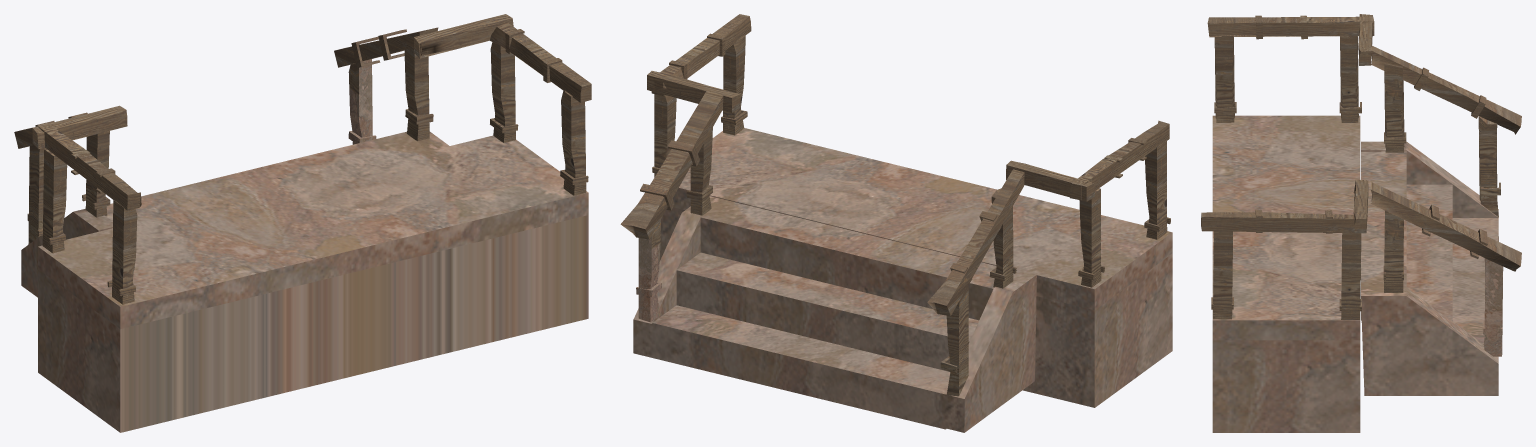
Rendered from OU_AR_House_Veranda_04_D.fbx.
3 renders of one model, left to right at view 1: azimuth 30°, elevation 25°; view 2: azimuth 150°, elevation 25°; view 3: azimuth 270°, elevation 25°, orthographic. The views are drawn at different scales.
Parts seen in each view (by area): view 1: Veranda001; view 2: Veranda001; view 3: Veranda001.
Part boxes in pixels (left/top/right/bottom): Veranda001: left=14, top=14, right=591, bottom=432; Veranda001: left=620, top=14, right=1172, bottom=432; Veranda001: left=1201, top=14, right=1521, bottom=432.
Bounding box in the file's own units: 370 × 180 × 242.
3 materials, 2 textured.
